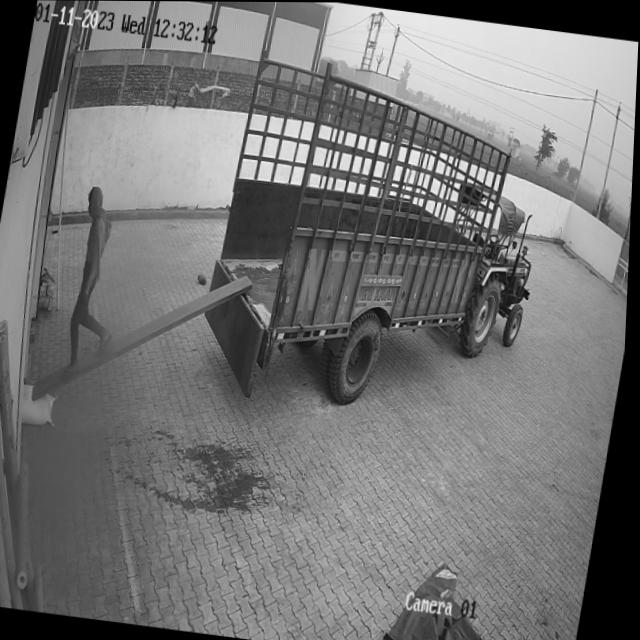sack: (20, 382, 61, 425)
